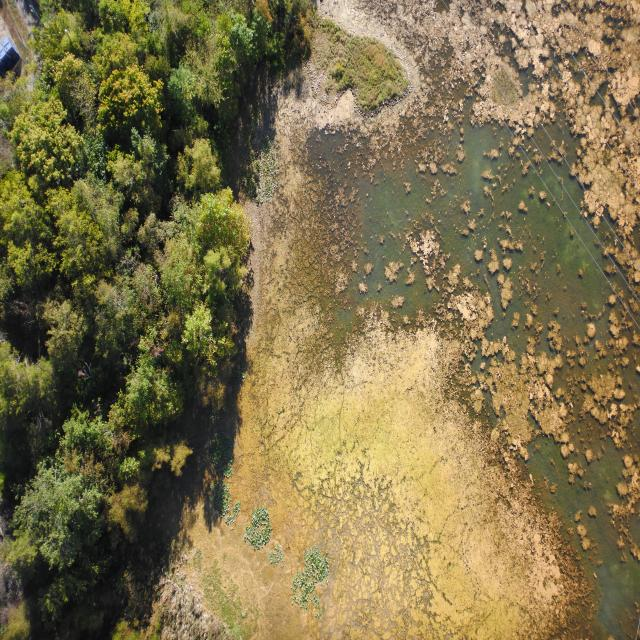Area of Interest: (8, 5, 306, 605)
